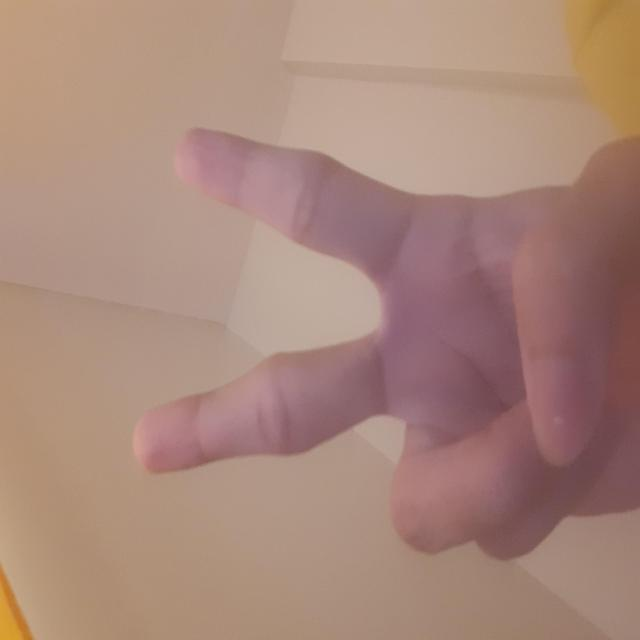V: (78, 129, 516, 640)
